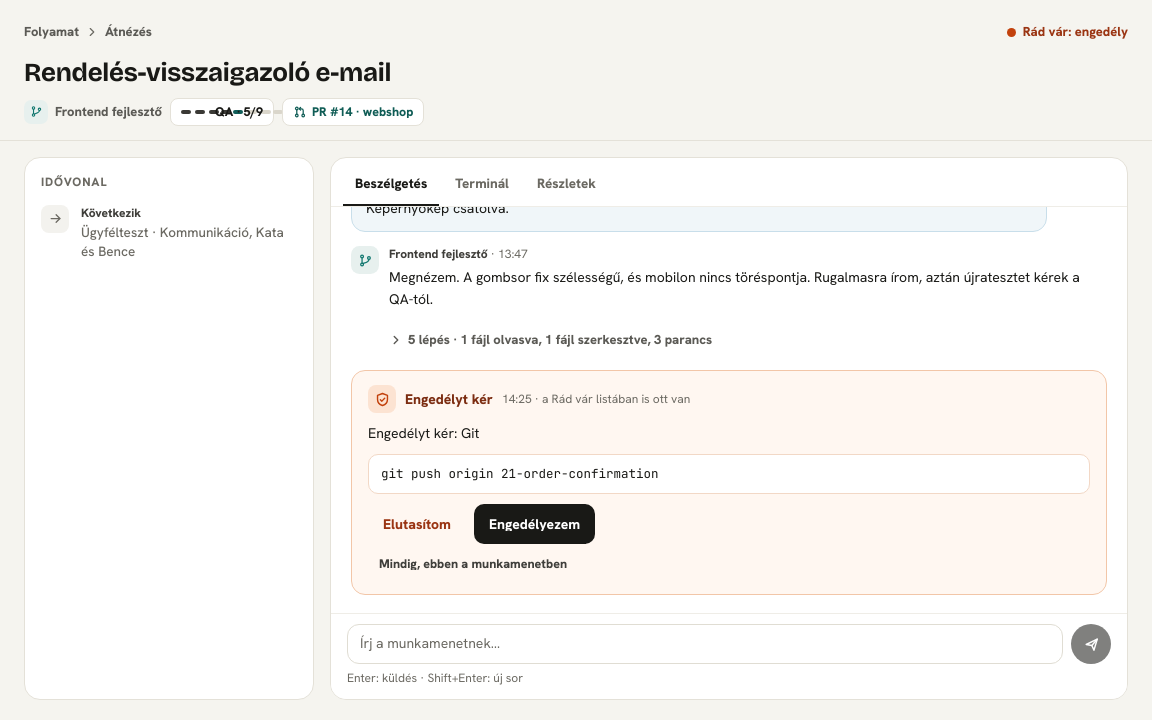
Scenario: where a member on leave is marked (PM-227) › marks the participant on leave in the session panel
(page scrolled)
# Not a wide screen: the panels are the "details" tab.
Click the tab "Részletek": (566, 185) [525,164,608,206]
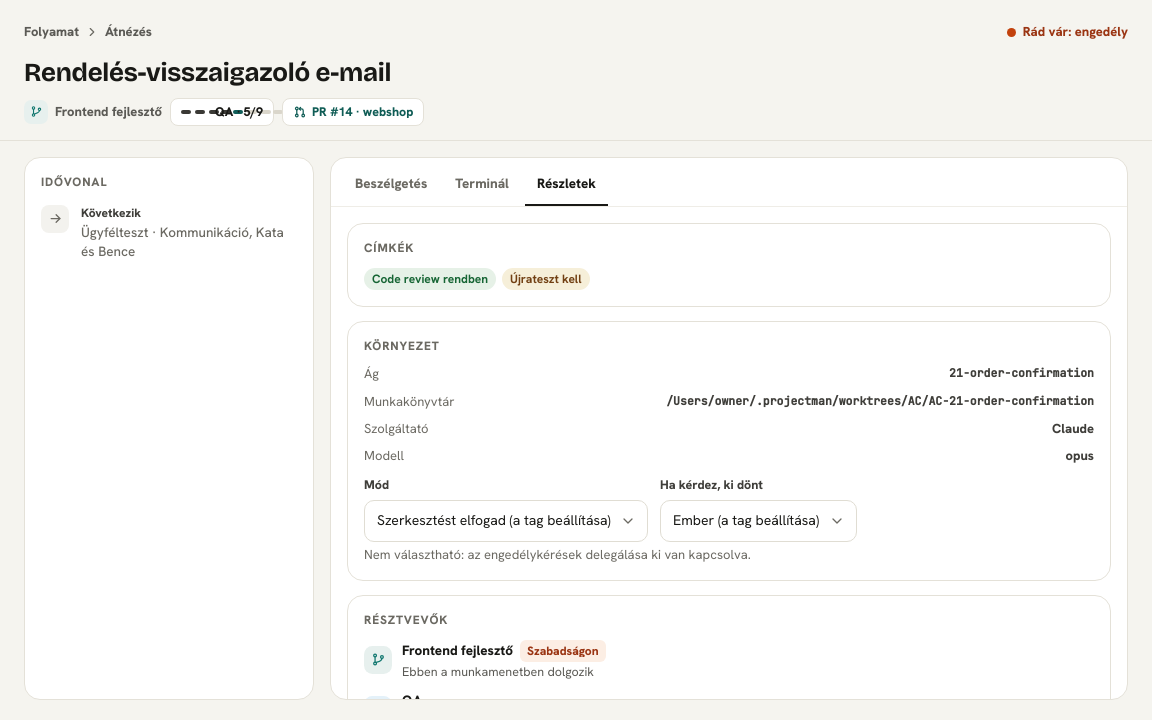
Result: the text "Szabadságon" is shown once at [527,645,598,657]
